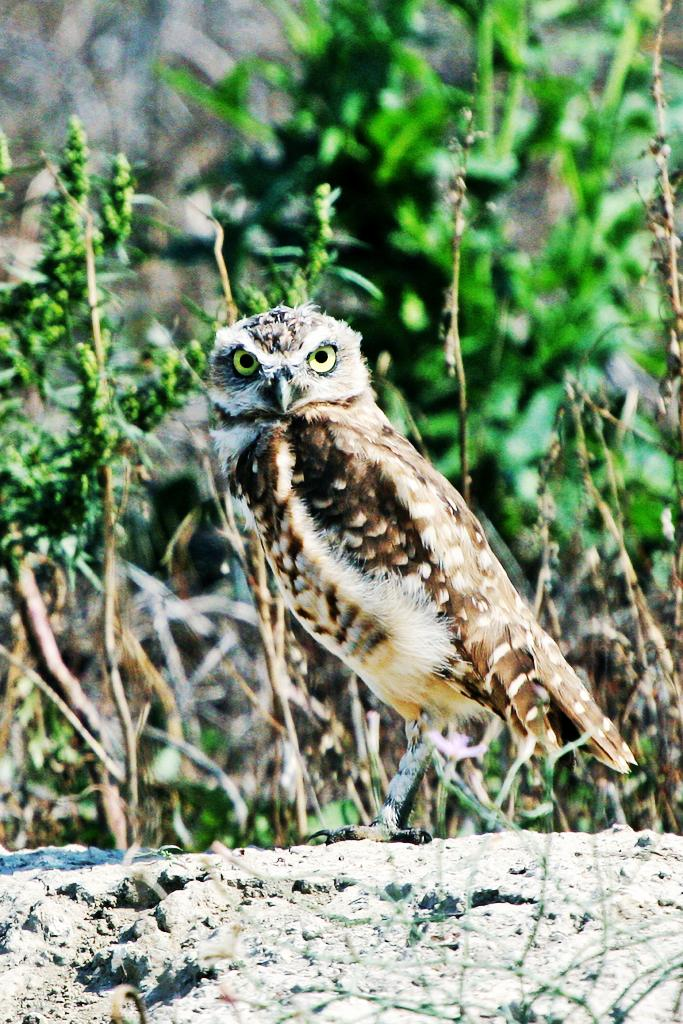Owl: (211, 302, 638, 850)
